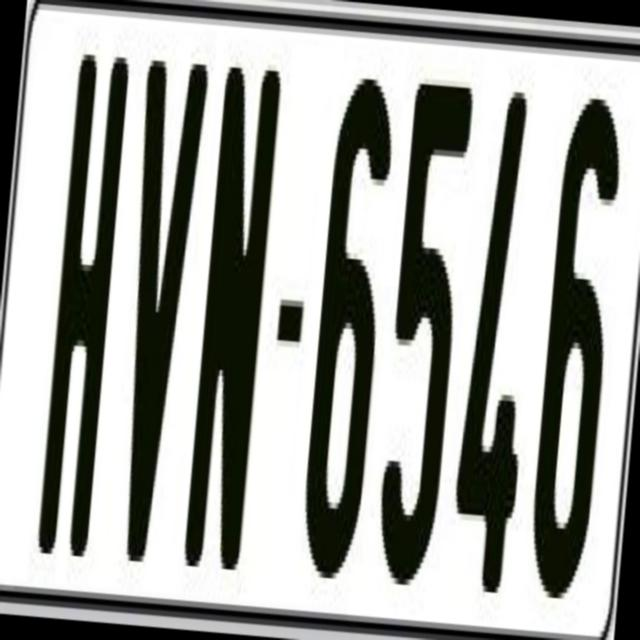4: (448, 90, 555, 594)
5: (372, 66, 474, 575)
6: (295, 76, 397, 610), (524, 90, 627, 618)
H: (36, 54, 138, 558)
N: (180, 54, 286, 559)
V: (104, 42, 218, 547)
